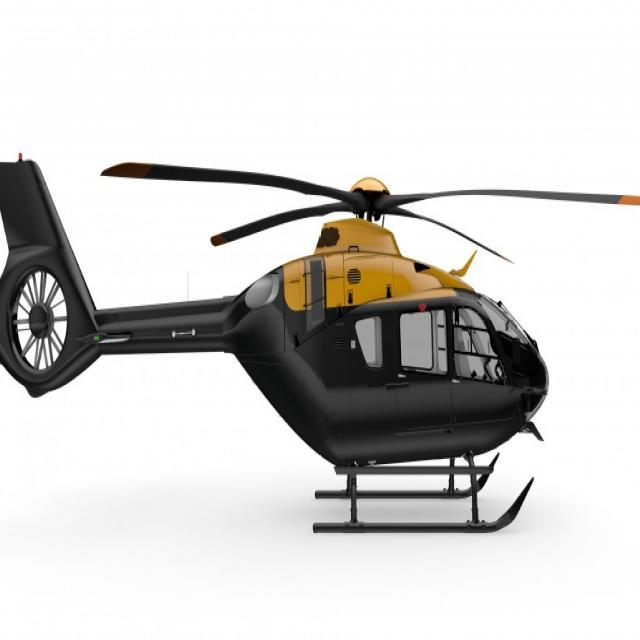helicopter: (1, 159, 640, 552)
